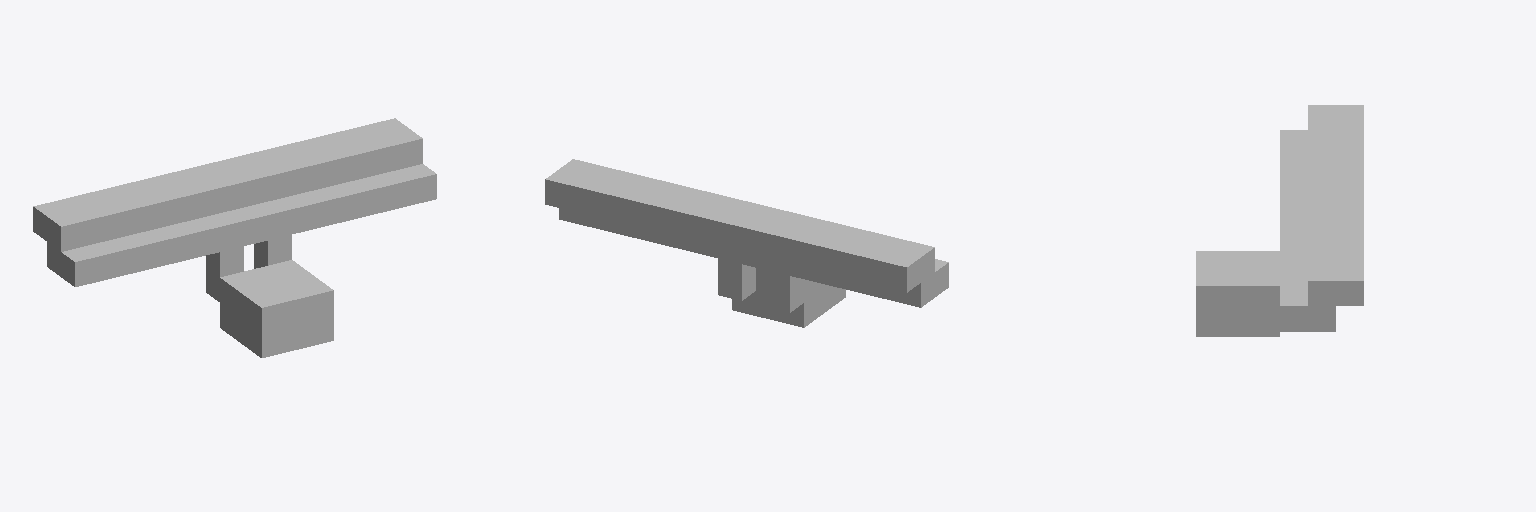
File: Light.obj
The picture shows the model from 3 angles: view 1: azimuth 30°, elevation 25°; view 2: azimuth 150°, elevation 25°; view 3: azimuth 270°, elevation 25°; orthographic projection.
Parts seen in each view (by area): view 1: object 1; view 2: object 1; view 3: object 1.
Boxes of the visible parts, x1,y1,x2,y2 form: object 1: [33, 118, 436, 357]; object 1: [545, 159, 948, 327]; object 1: [1196, 105, 1363, 336].
Bounding box in the file's own units: 1.5 × 0.5 × 0.6.